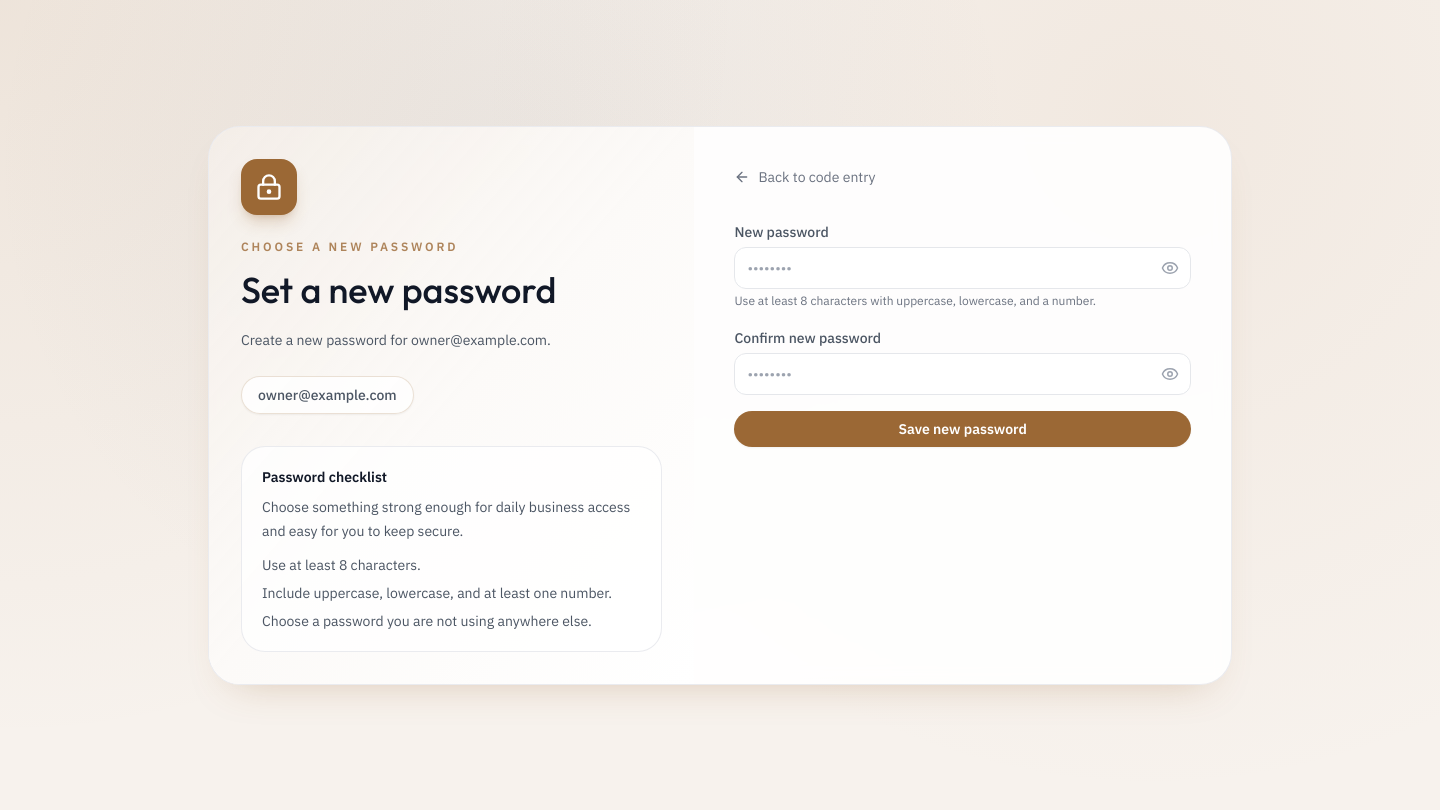
Scenario: ResetPassword › validates weak and mismatched passwords before submit
In the password field labelled "New password": point(963, 268) [734, 246, 1191, 288], type "weak"
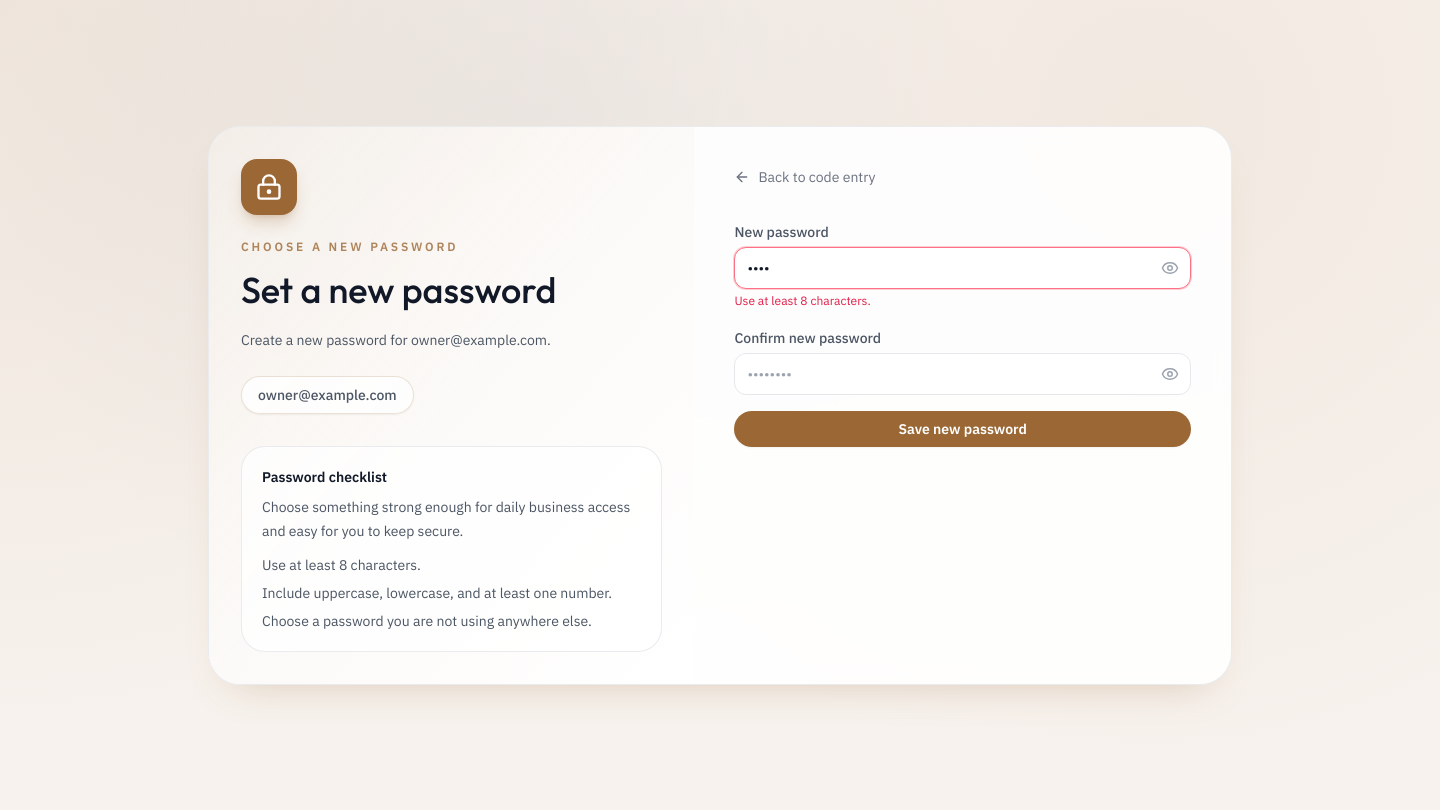
Expected: the button "Save new password" is disabled, [734, 410, 1191, 446]
In the password field labelled "New password": point(963, 268) [734, 246, 1191, 288], type "StrongPass1"
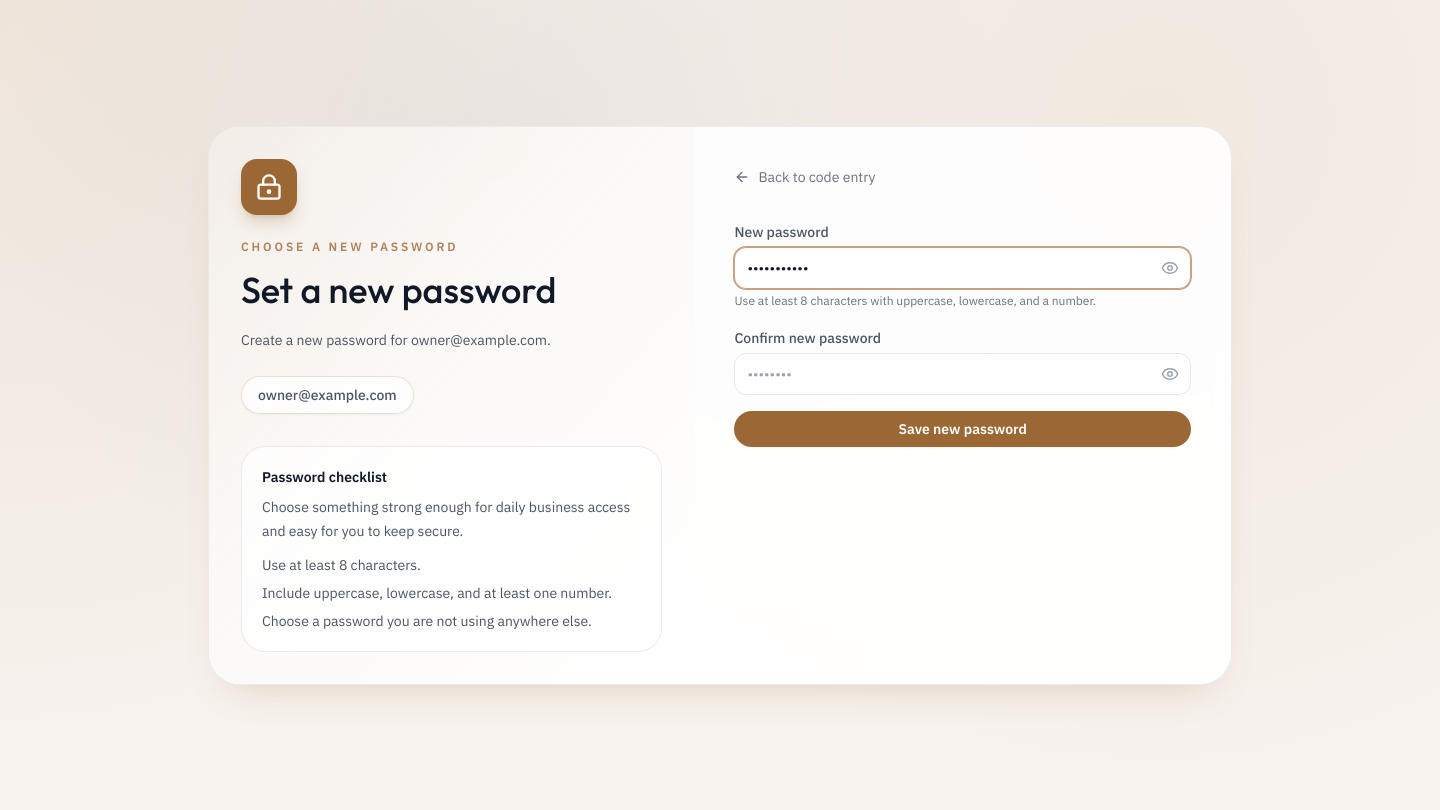
In the password field labelled "Confirm new password": point(963, 374) [734, 352, 1191, 394], type "DifferentPass1"
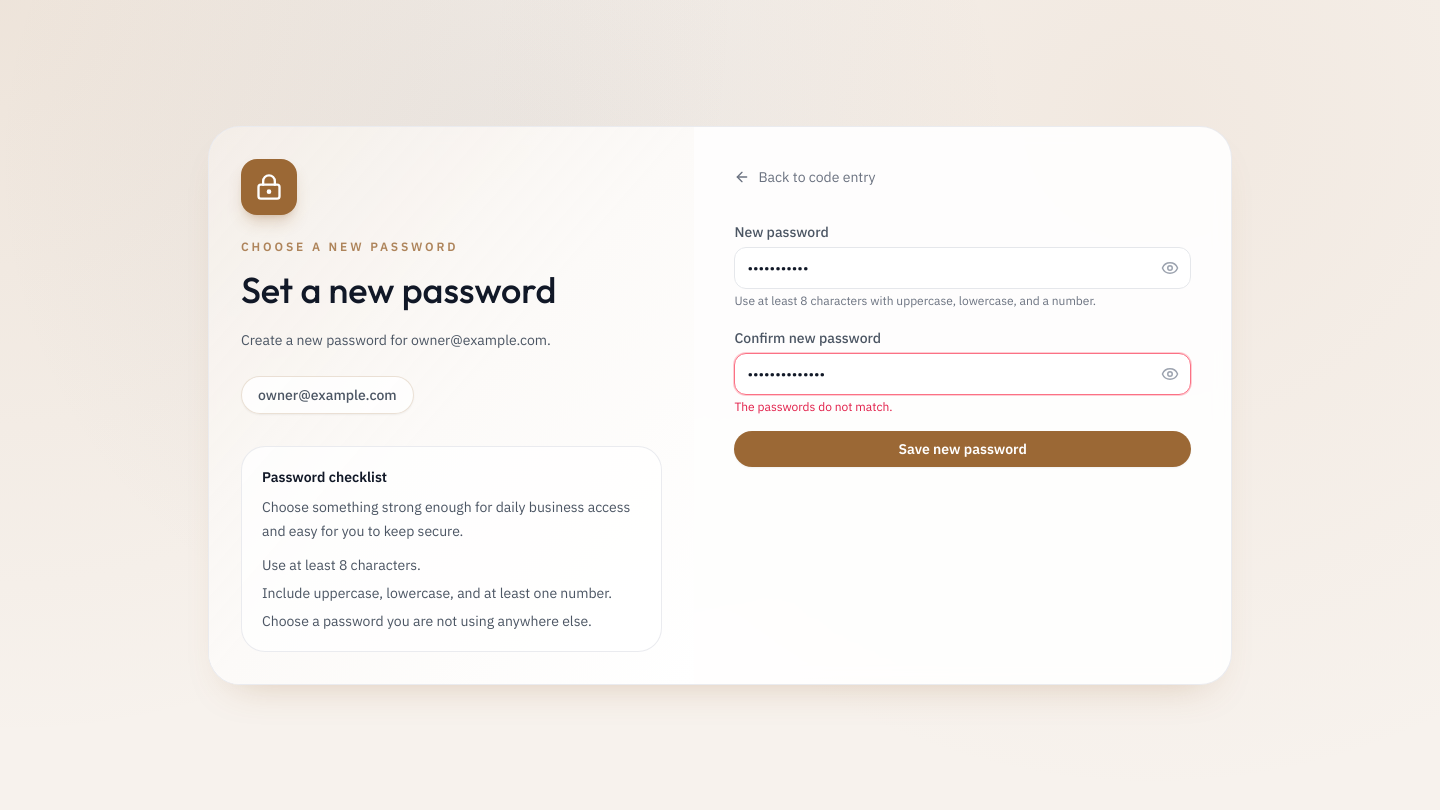
Expected: the button "Save new password" is disabled, [734, 430, 1191, 466]
Result: the text "The passwords do not match." is shown at [734, 398, 892, 414]
